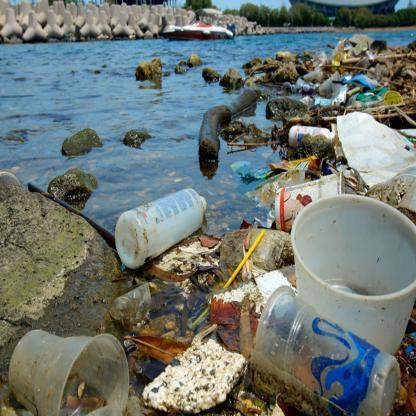plastic bottle: (251, 284, 401, 415), (7, 328, 126, 416), (113, 188, 208, 266), (288, 123, 337, 149)
